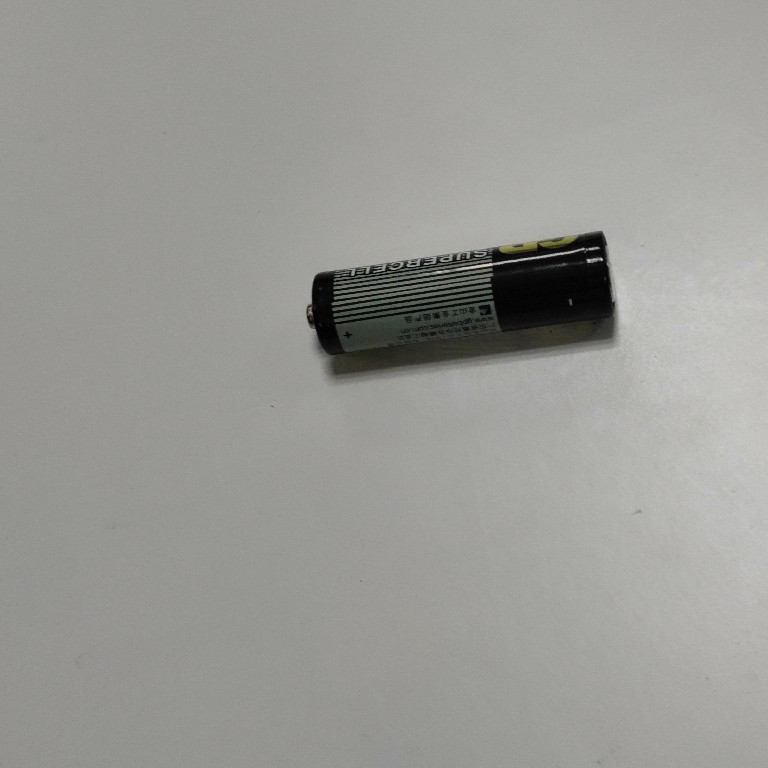charge: (299, 226, 622, 366)
